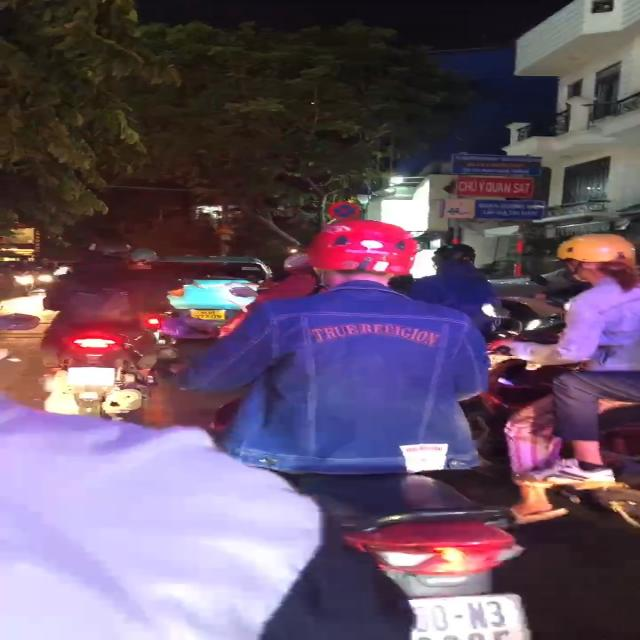Bien bao cam dung xe va do xe: (323, 200, 369, 221)
